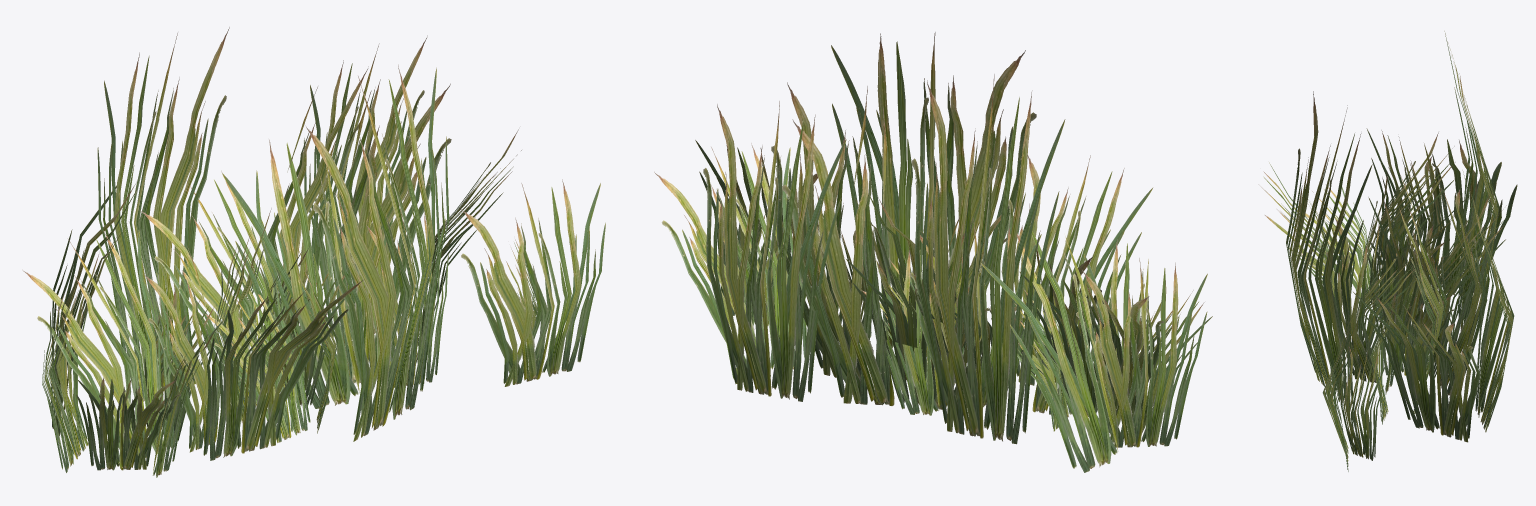
Rendered from Grass_3.fbx.
3 renders of one model, left to right at view 1: azimuth 30°, elevation 25°; view 2: azimuth 150°, elevation 25°; view 3: azimuth 270°, elevation 25°, orthographic. The views are drawn at different scales.
Parts seen in each view (by area): view 1: Grass_3; view 2: Grass_3; view 3: Grass_3.
Part boxes in pixels (bbox=[...]): Grass_3: bbox=[22, 27, 605, 477]; Grass_3: bbox=[654, 32, 1212, 472]; Grass_3: bbox=[1258, 31, 1517, 471].
Size of the model in its own units: 147 by 102 by 76.51.
